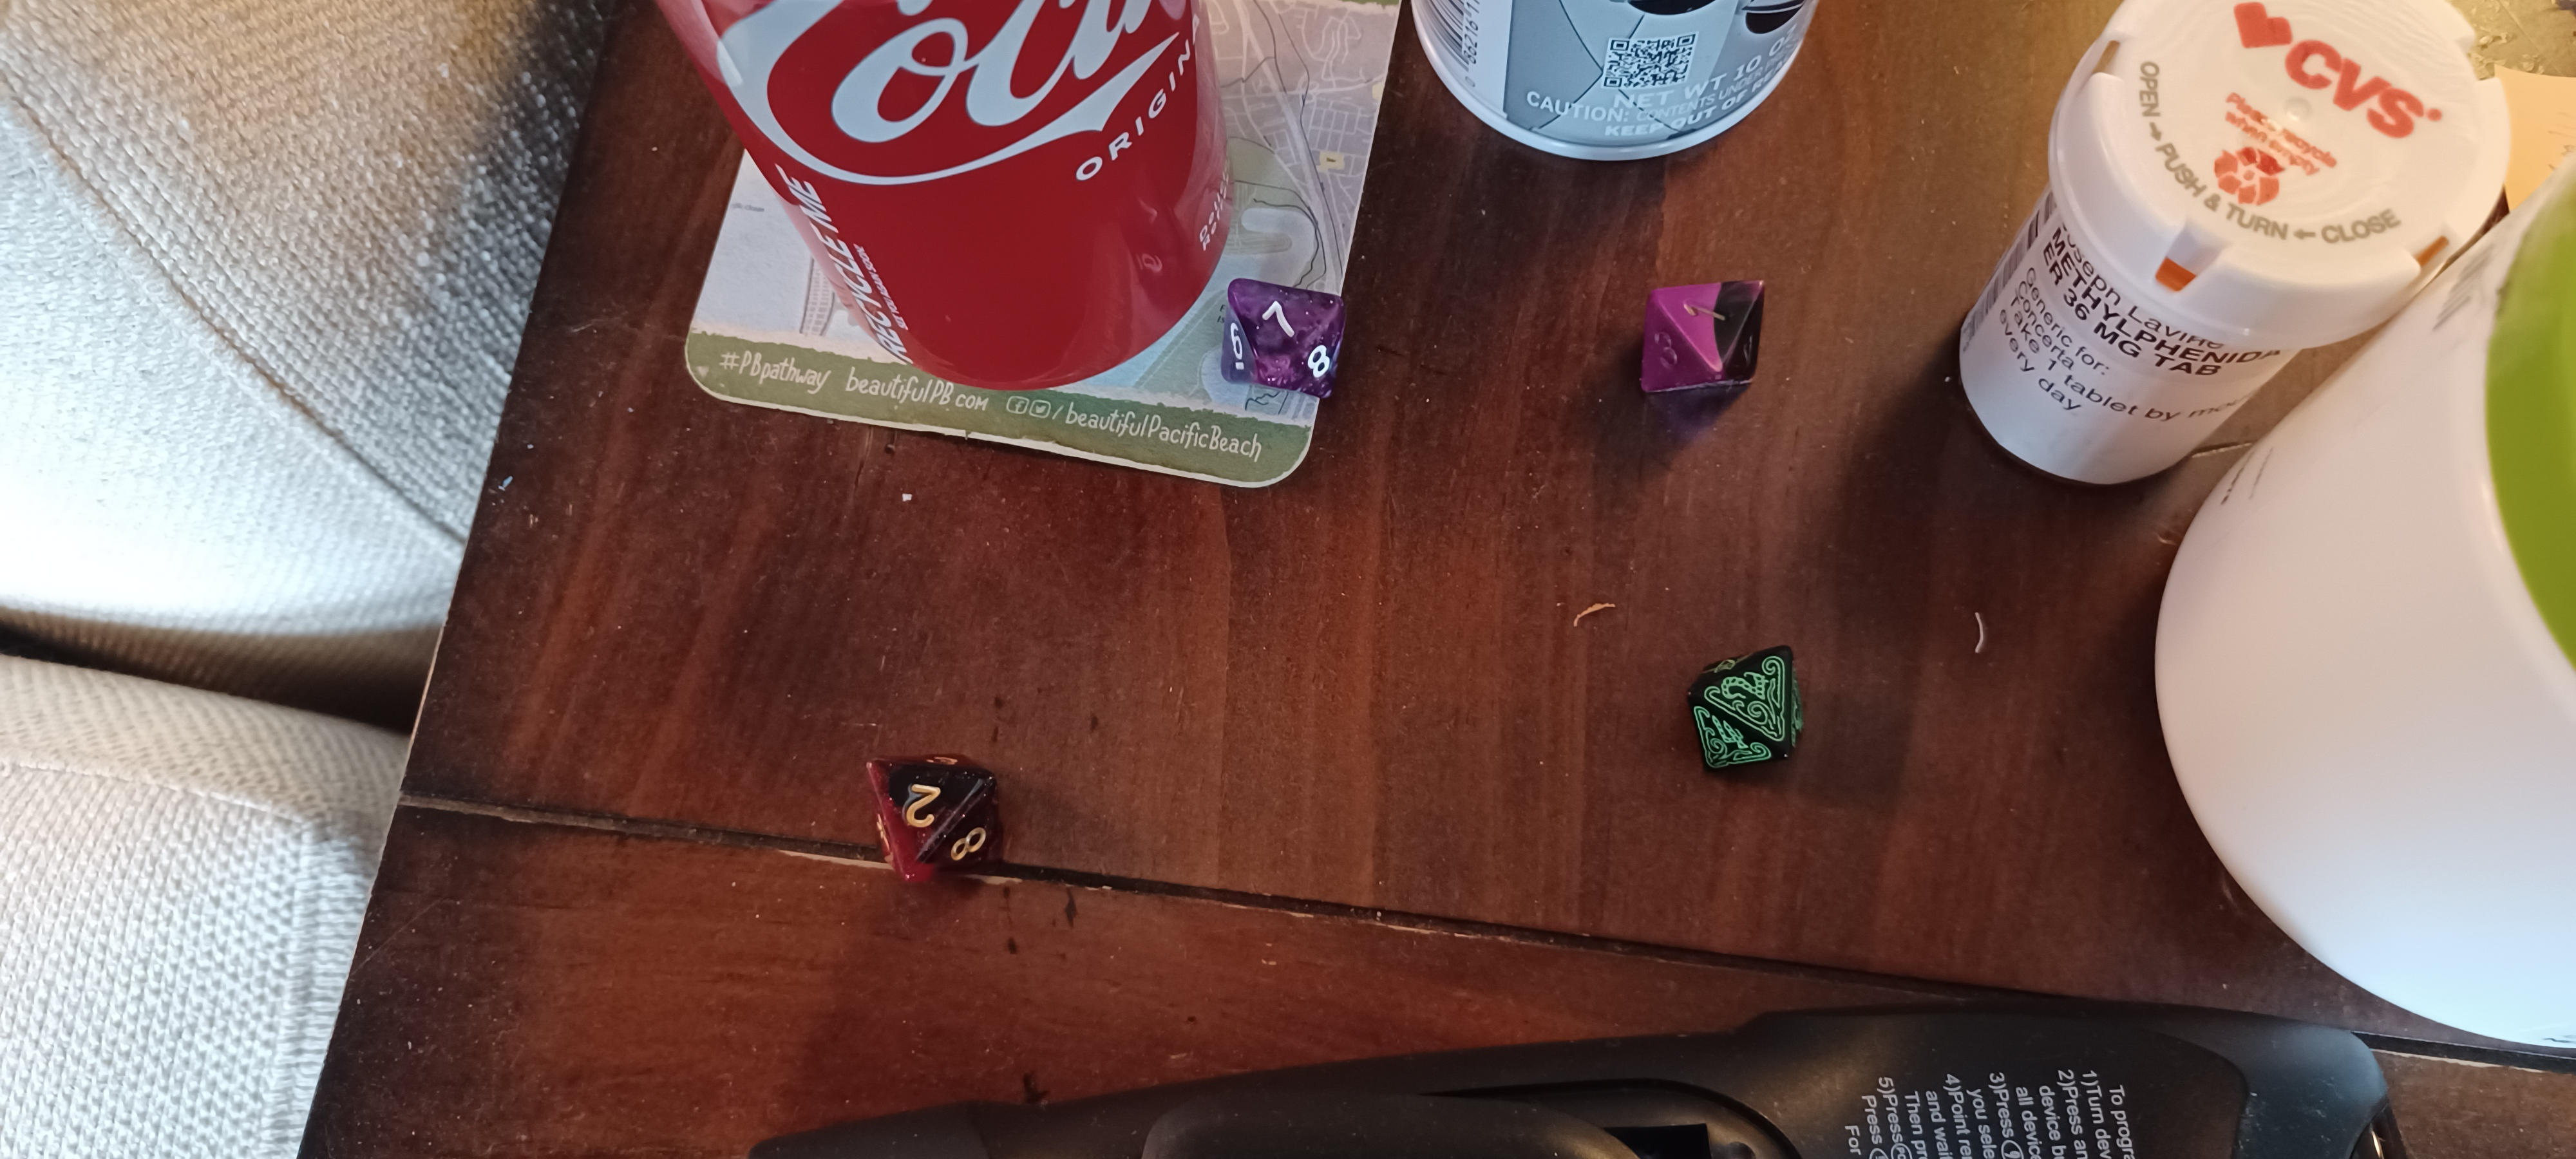one: (1598, 245, 1809, 424)
seven: (1189, 256, 1382, 414)
two: (1654, 616, 1845, 808), (839, 731, 1037, 905)
